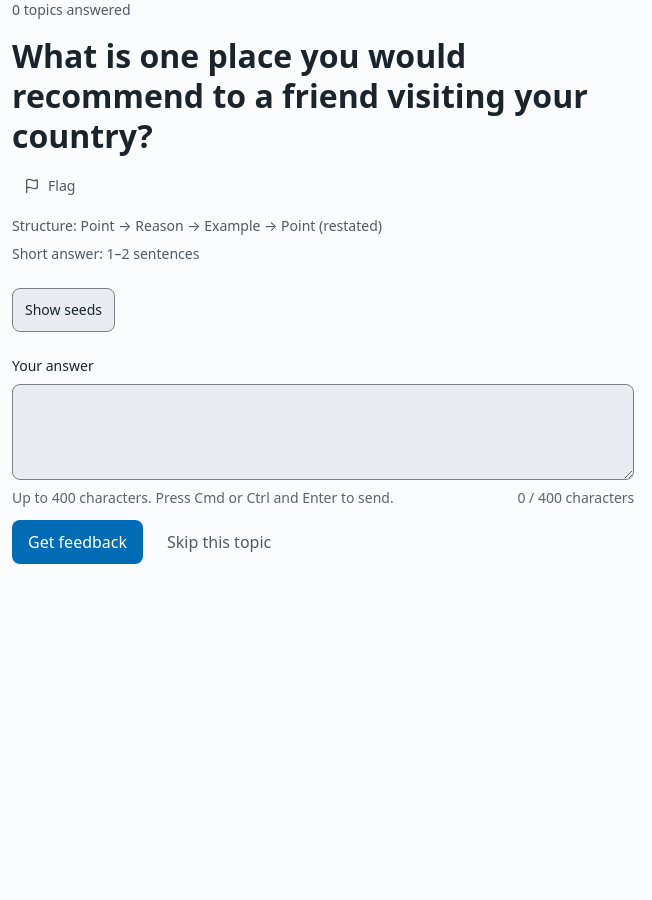
the drill page's client leaf › collapses the seeds again when the next topic starts
Click the button "Show seeds" at (64, 310), box x1=12 y1=288 x2=115 y2=332
(page scrolled)
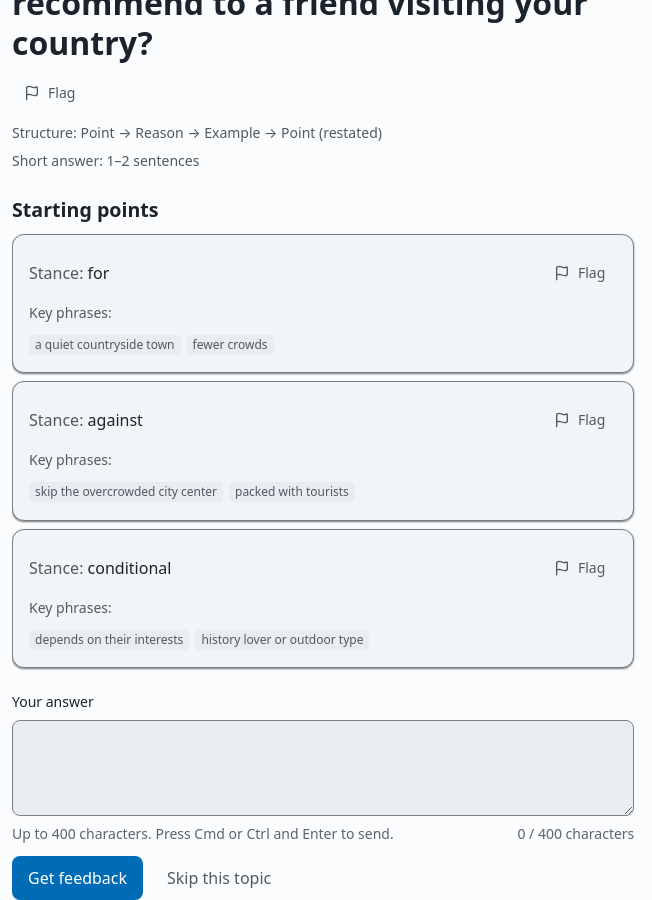
Now the heading "Starting points" is shown, box x1=12 y1=196 x2=159 y2=223
Click the button "Skip this topic" at (219, 878), box x1=151 y1=856 x2=287 y2=899
(page scrolled)
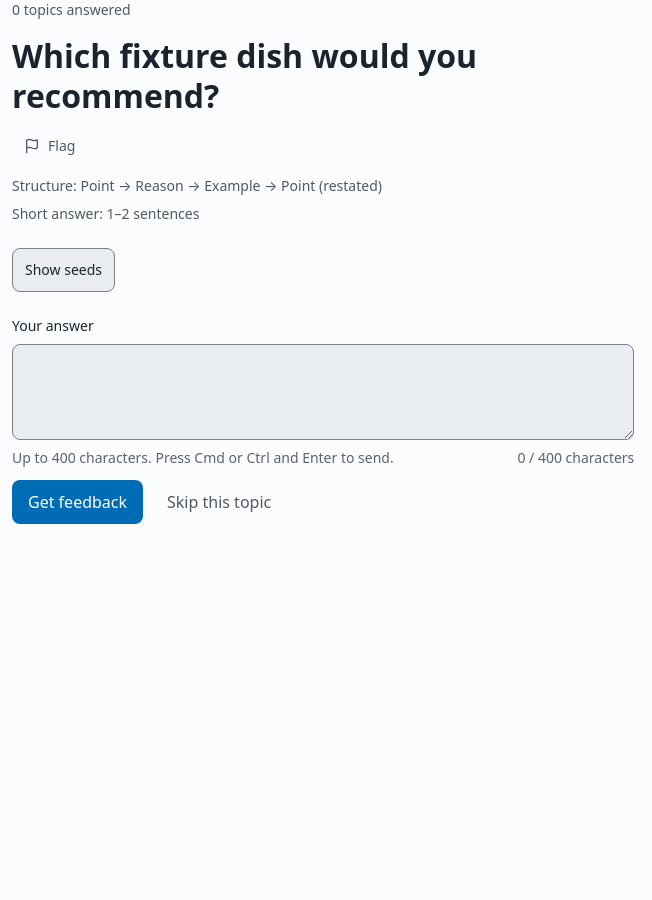
Now the button "Show seeds" is shown, box x1=12 y1=248 x2=115 y2=292
Now the heading "Starting points" is gone
